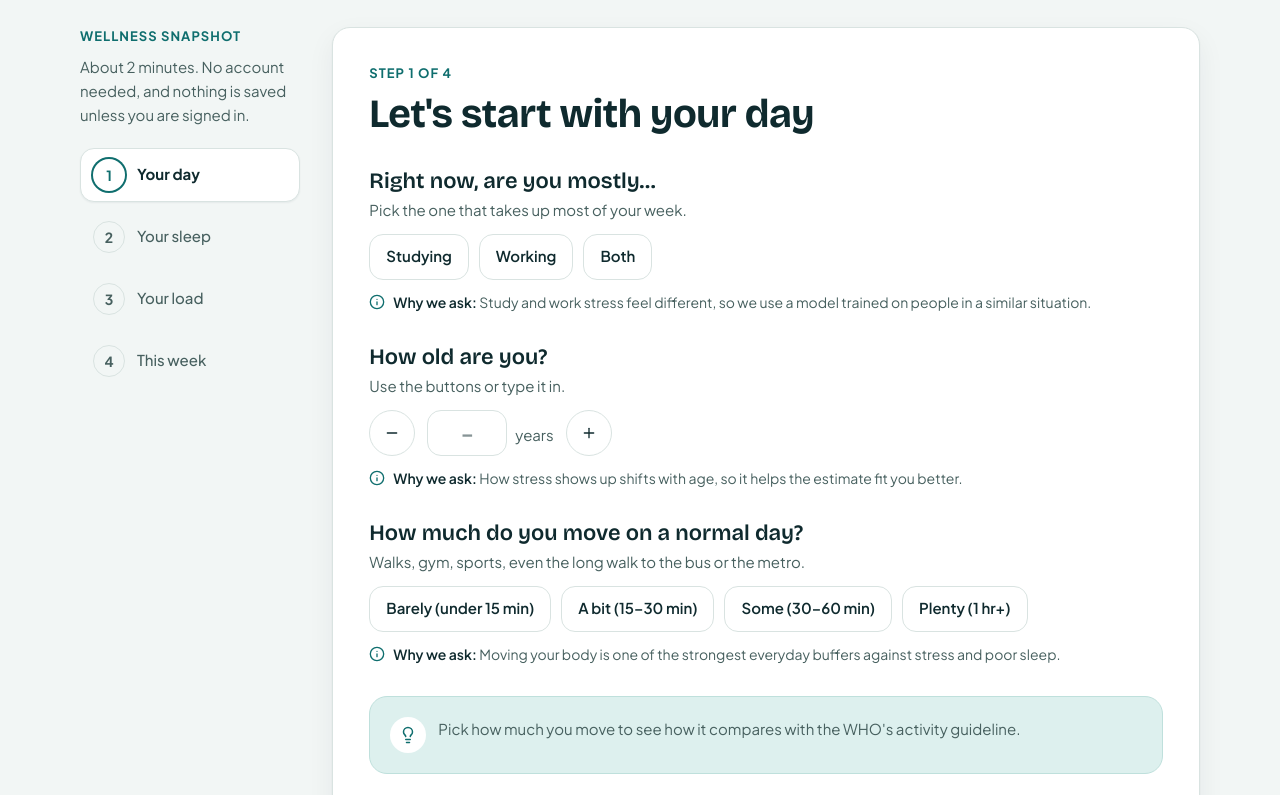
Test: questionnaire › the step list marks the current step; chips and the 1-10 scale are toggle buttons
Click the button "Working". click: point(526, 256)
box: x1=479 y1=234 x2=573 y2=280
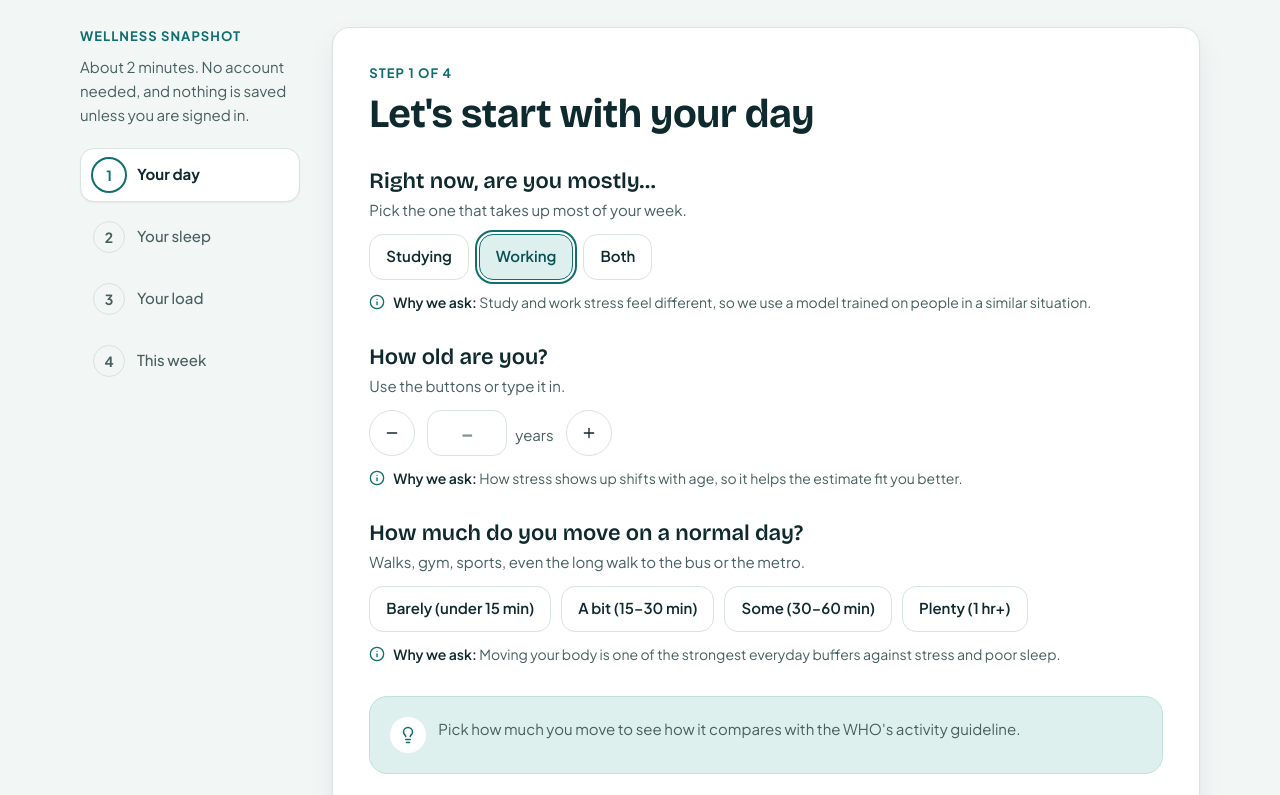
Now the button "Working" is pressed, box x1=479 y1=234 x2=573 y2=280
Click the button named "One year older". click: point(589, 432)
box: x1=566 y1=410 x2=612 y2=456
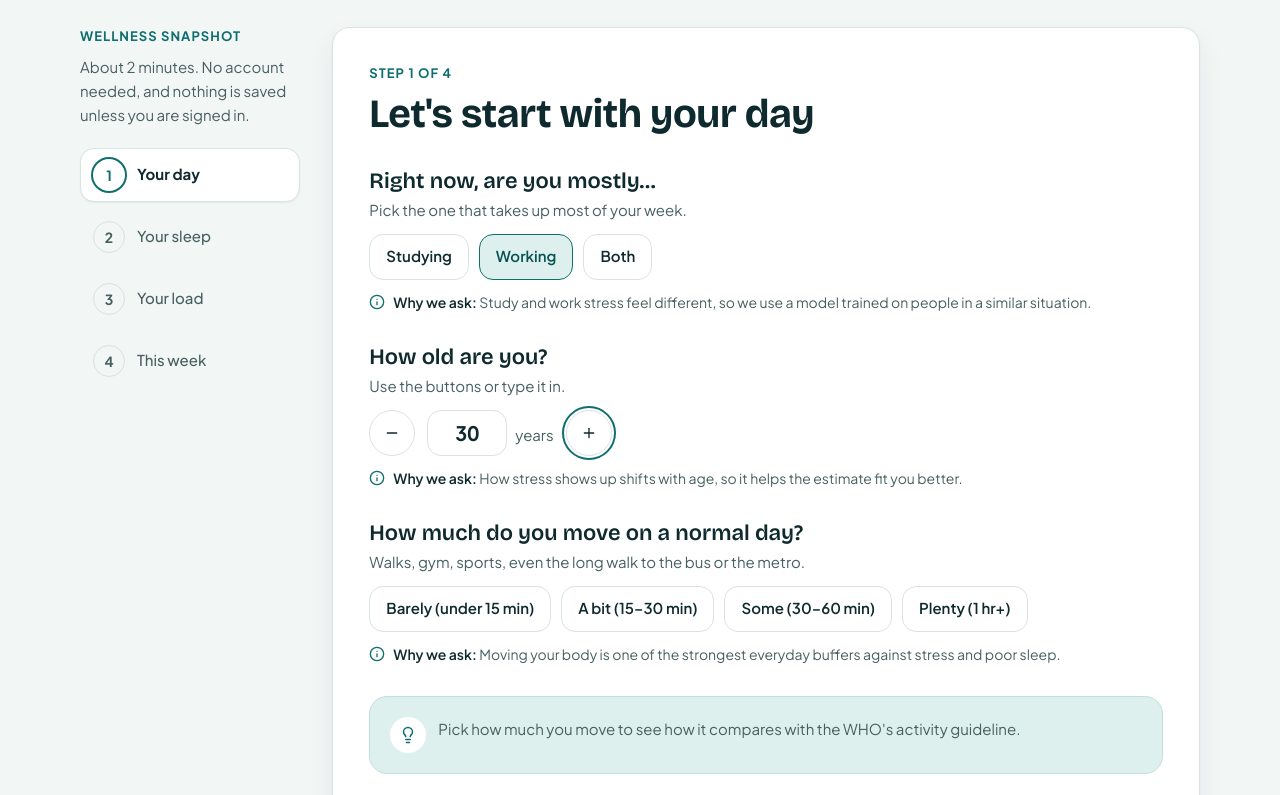
Click the button "Plenty (1 hr+)". click: point(965, 608)
box: x1=902 y1=586 x2=1028 y2=632
(page scrolled)
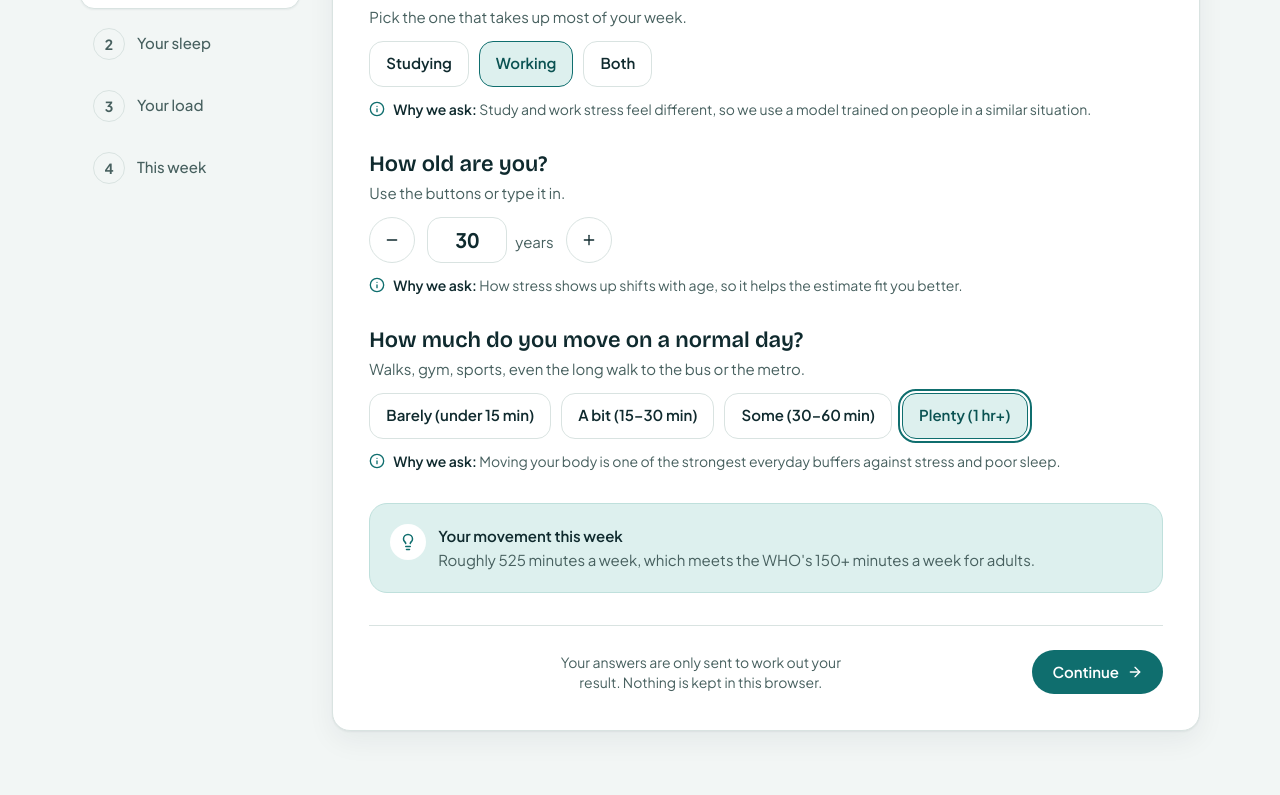
Now the text "Roughly 525 minutes a week, which meets the WHO's 150+ minutes" is shown, box x1=438 y1=550 x2=1035 y2=569
Click the button "Continue". click: point(1098, 672)
box: x1=1032 y1=650 x2=1163 y2=694
(page scrolled)
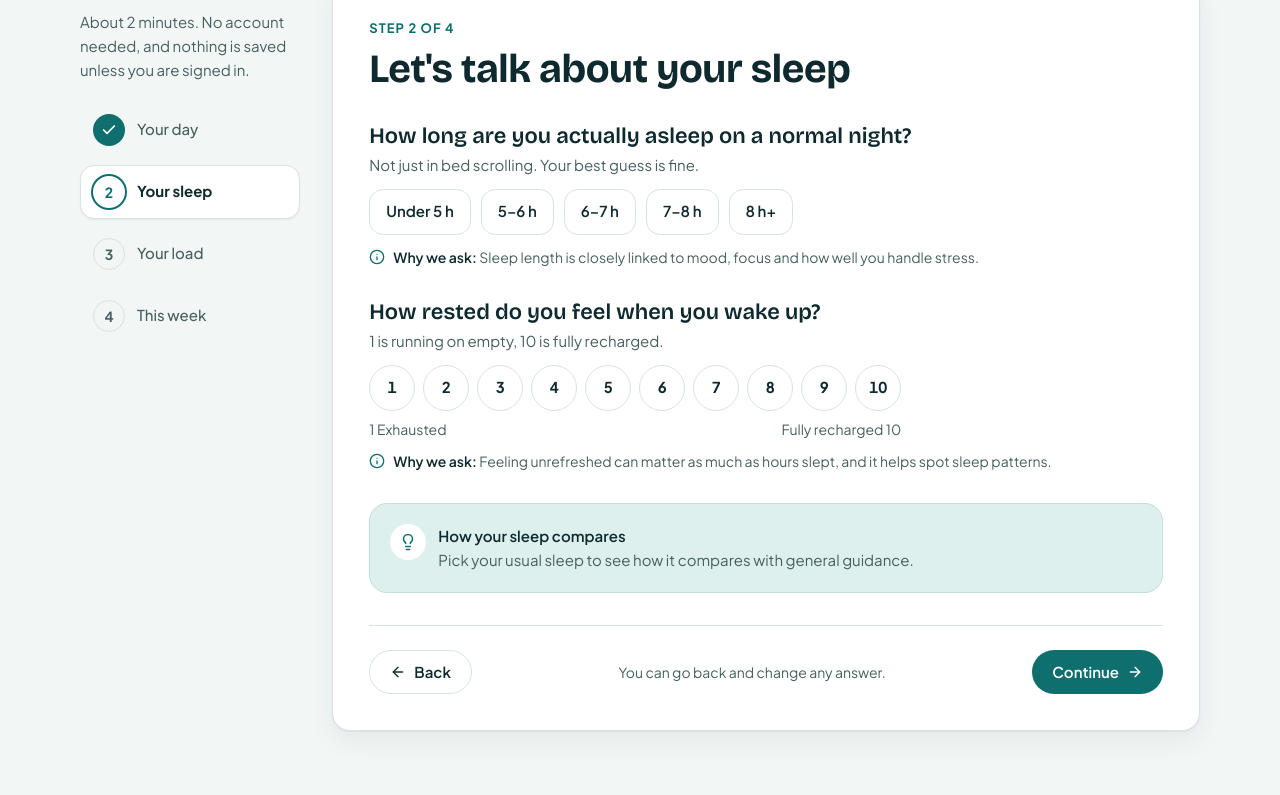
Now the list item "2 Your sleep" is marked as current, box x1=80 y1=165 x2=300 y2=219
